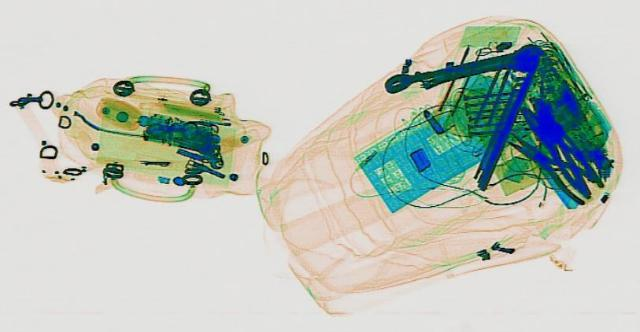Pliers: (484, 126, 620, 202), (504, 102, 610, 196)
Wrench: (371, 41, 555, 98)
